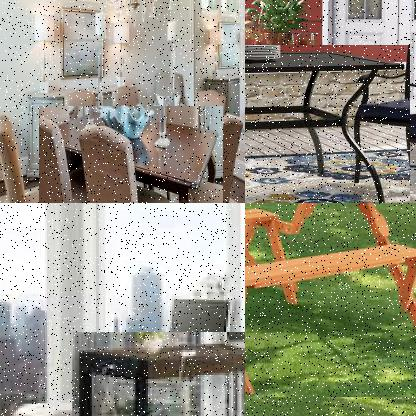table: (245, 203, 415, 398), (245, 45, 412, 202), (39, 106, 225, 202), (72, 332, 244, 415)
